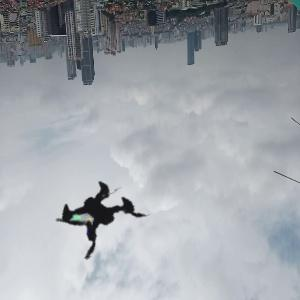drone: (18, 127, 180, 289)
